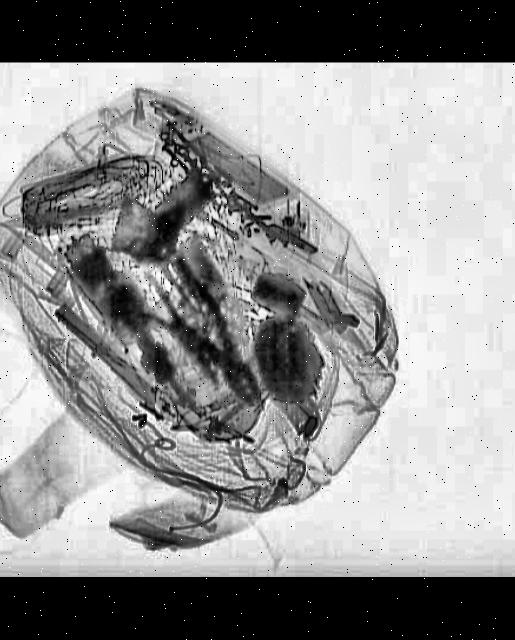Pliers: (138, 256, 285, 420)
